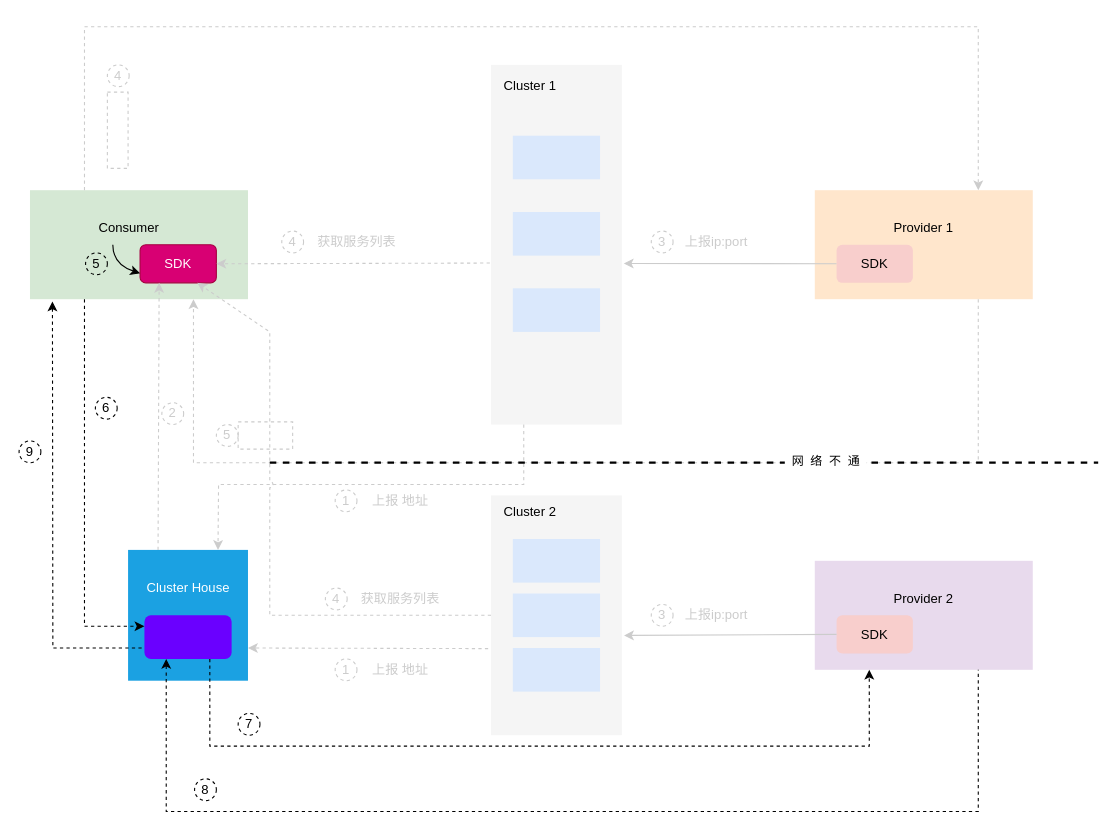
Some shapes in this 1119 by 839 pixel diagram are drawn without their labels. Each missing label, with the centre of its shape:
"Proxy" goes at (x=187, y=636).
"响应" goes at (x=265, y=435).
"服务调用" goes at (x=117, y=129).
